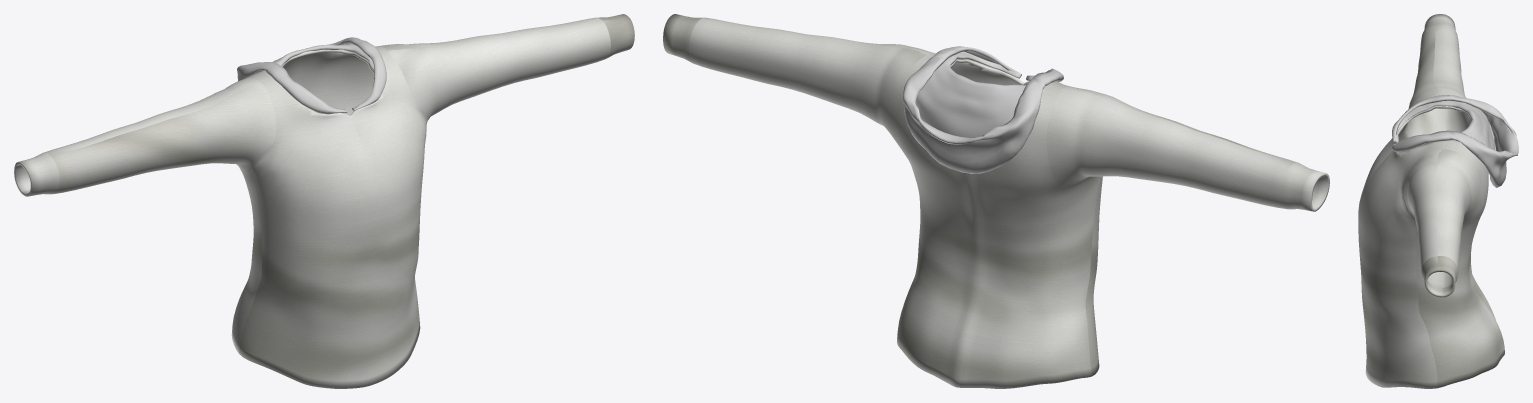
The model's file is huku03.fbx.
3 views of the same model, side by side, from view 1: azimuth 30°, elevation 25°; view 2: azimuth 150°, elevation 25°; view 3: azimuth 270°, elevation 25° (orthographic). The views are drawn at different scales.
Parts seen in each view (by area): view 1: Huku03; view 2: Huku03; view 3: Huku03.
Boxes of the visible parts, box(x1,y1,x2,y2) form: Huku03: box(14, 14, 634, 388); Huku03: box(663, 14, 1329, 388); Huku03: box(1358, 14, 1518, 388).
Bounding box in the file's own units: 120 × 56.36 × 31.82.
